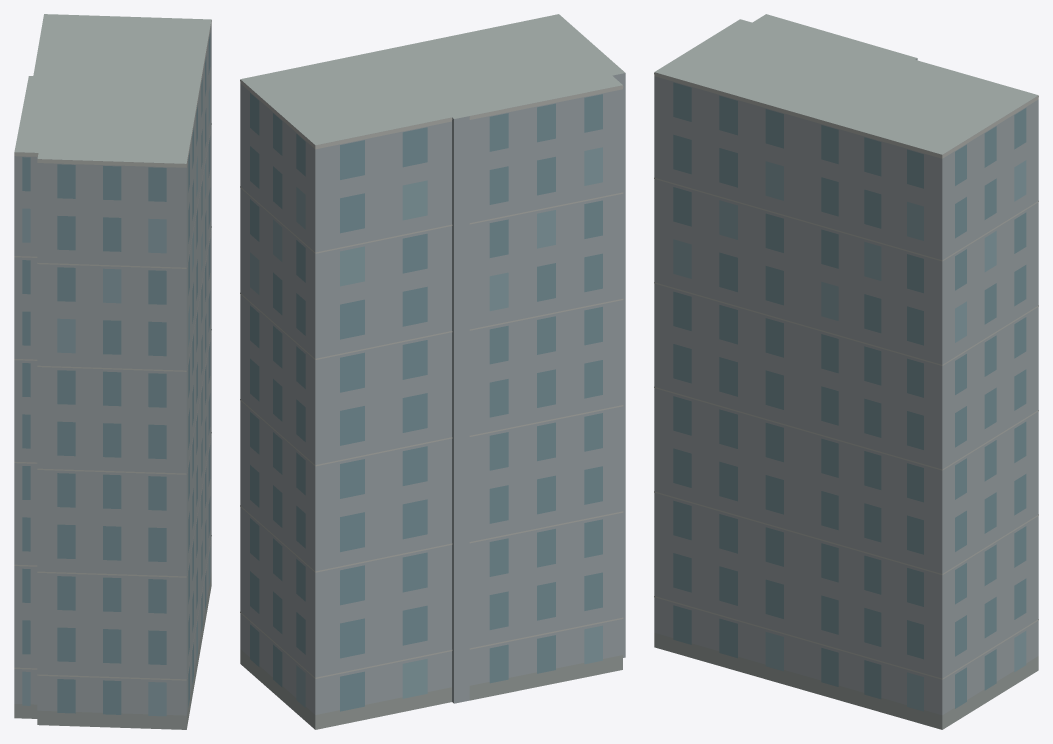
The model's file is survey-upis-32571691.glb.
3 renders of one model, left to right at view 1: azimuth 30°, elevation 25°; view 2: azimuth 150°, elevation 25°; view 3: azimuth 270°, elevation 25°, orthographic. The views are drawn at different scales.
Parts seen in each view (by area): view 1: survey-upis-32571691.tmp; view 2: survey-upis-32571691.tmp; view 3: survey-upis-32571691.tmp.
Boxes of the visible parts, x1=… form: survey-upis-32571691.tmp: x1=14, y1=14, x2=211, y2=729; survey-upis-32571691.tmp: x1=240, y1=14, x2=625, y2=729; survey-upis-32571691.tmp: x1=654, y1=14, x2=1038, y2=729.
Size of the model in its own units: 18.29 by 34.8 by 21.11.
